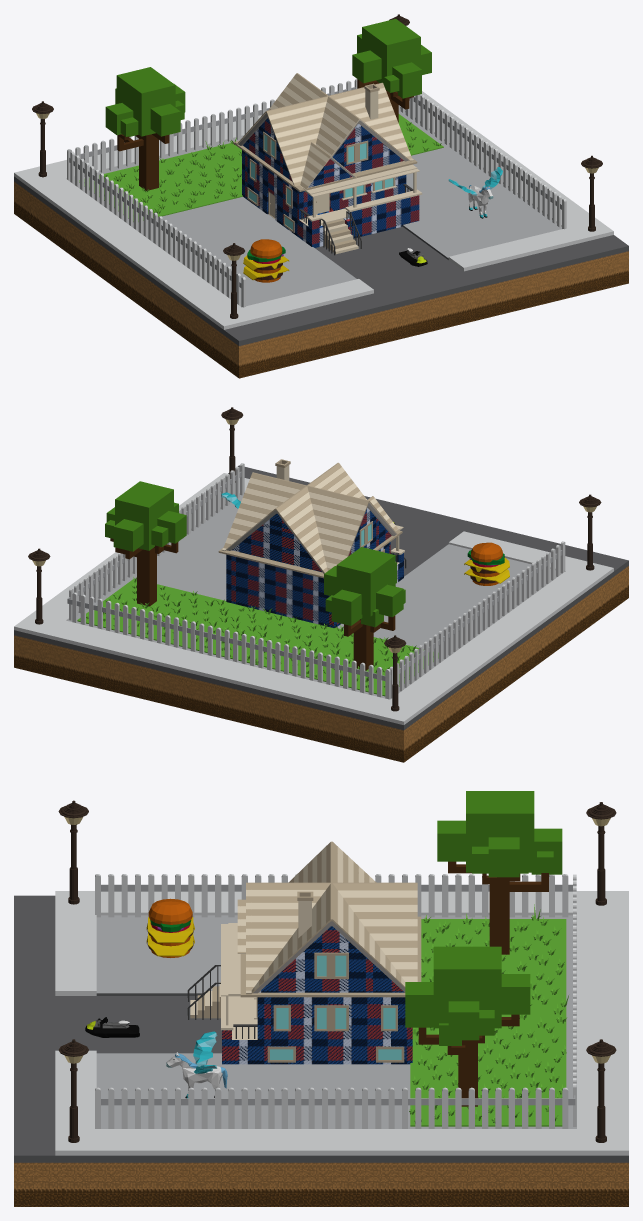
3 renders of one model, top to bottom at view 1: azimuth 30°, elevation 25°; view 2: azimuth 150°, elevation 25°; view 3: azimuth 270°, elevation 25°, orthographic. The views are drawn at different scales.
Visible parts, largest first — view 1: Cube.004, Cube.171, OBJRANDOM_HAMBURGER, ANIMAL_PEGASO; view 2: Cube.004, Cube.171, OBJRANDOM_HAMBURGER; view 3: Cube.004, Cube.171, OBJRANDOM_HAMBURGER, ANIMAL_PEGASO, VEHICLES_WATERBIKE.
Part boxes in pixels (left/top/right/bottom): Cube.004: left=14, top=14, right=628, bottom=378; Cube.171: left=233, top=73, right=422, bottom=255; OBJRANDOM_HAMBURGER: left=243, top=239, right=289, bottom=282; ANIMAL_PEGASO: left=448, top=167, right=502, bottom=218; Cube.004: left=14, top=407, right=628, bottom=762; Cube.171: left=218, top=459, right=406, bottom=627; OBJRANDOM_HAMBURGER: left=464, top=542, right=509, bottom=585; Cube.004: left=14, top=791, right=628, bottom=1206; Cube.171: left=187, top=841, right=421, bottom=1064; OBJRANDOM_HAMBURGER: left=146, top=898, right=194, bottom=957; ANIMAL_PEGASO: left=166, top=1031, right=227, bottom=1098; VEHICLES_WATERBIKE: left=85, top=1017, right=139, bottom=1037.
Size of the model in its own units: 4000 by 1600 by 4000.
Materials: 32 (4 with a texture image).
